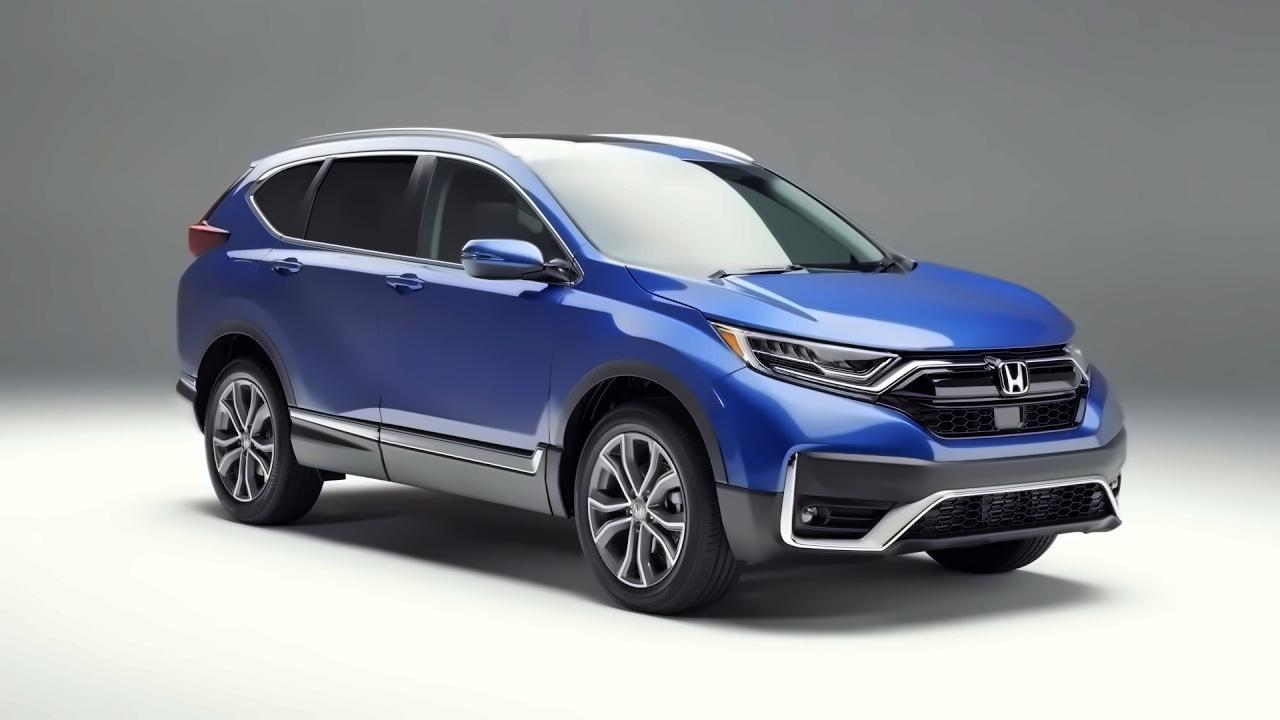Car hood: (619, 256, 1094, 353)
Driver-s door - -F-R-: (372, 117, 580, 538)
Fender - -F-R-: (541, 240, 755, 550)
Fender - -R-R-: (161, 152, 300, 400)
Front bumper: (688, 412, 1132, 576)
Headlight - -L-: (1065, 329, 1097, 389)
Headlight - -R-: (707, 315, 907, 405)
Passenger-s door - -R-R-: (231, 120, 432, 509)
Side bumper - -R-: (281, 403, 570, 524)
Side mirror - -R-: (453, 236, 581, 284)
